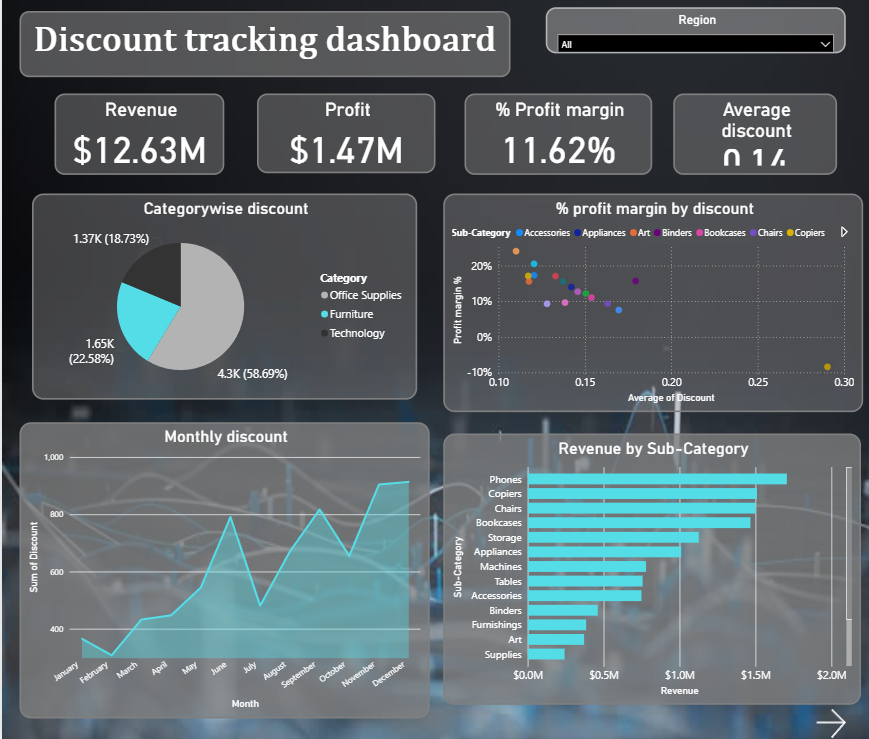

What the dashboard file says about the page in this screenshot:
{"tool":"powerbi","page":{"name":"Discount analysis","canvas":[1280,1100],"ordinal":0},"visuals":[{"type":"card","title":"Revenue ","fields":{"Values":["Orders.Revenue"]},"box":[77.4,143.8,250.7,119.8],"z":0},{"type":"card","title":"Profit ","fields":{"Values":["Sum(Orders.Profit)"]},"box":[376,143.8,263.6,118],"z":1000},{"type":"card","title":"% Profit margin ","fields":{"Values":["Orders.Profit margin %"]},"box":[682,143.8,276.5,119.8],"z":2000},{"type":"card","title":"Average discount","fields":{"Values":["Avg(Orders.Discount)"]},"box":[989.8,143.8,241.5,119.8],"z":3000},{"type":"barChart","fields":{"Y":["Orders.Revenue"],"Category":["Orders.Sub-Category"]},"box":[650.6,645.1,615.6,400],"z":4000},{"type":"scatterChart","title":"% profit margin by discount","fields":{"Y":["Orders.Profit margin %"],"Category":["Orders.Sub-Category"],"Series":["Orders.Sub-Category"],"X":["Avg(Orders.Discount)"]},"box":[650.6,291.2,619.3,322.6],"z":5000},{"type":"areaChart","title":"Monthly discount ","fields":{"Y":["Sum(Orders.Discount)"],"Category":["Orders.Order Date.Variation.Date Hierarchy.Month","Orders.Order Date.Variation.Date Hierarchy.Day"]},"box":[25.8,628.5,604.6,436.8],"z":6000},{"type":"pieChart","title":"Categorywise discount","fields":{"Y":["Sum(Orders.Discount)"],"Category":["Orders.Category"]},"box":[44.2,291.2,567.7,304.1],"z":7000},{"type":"slicer","title":"Region ","fields":{"Values":["Orders.Region","Orders.Country"]},"box":[801.8,16.6,442.4,68.2],"z":8000},{"type":"actionButton","box":[1194.4,1045.1,71.9,55.3],"z":9000},{"type":"textbox","box":[25.8,22.1,724.4,97.7],"z":10000}]}

Visuals, with their boxes in screenshot pixels (x1, y1, x2, y2), scaled from the page's 1280x1100 canvas onto the 869x739 screenshot:
"Revenue " card: box(53, 97, 223, 177)
"Profit " card: box(255, 97, 434, 176)
"% Profit margin " card: box(463, 97, 651, 177)
"Average discount" card: box(672, 97, 836, 177)
barChart - Orders.Revenue x Orders.Sub-Category: box(442, 433, 860, 702)
"% profit margin by discount" scatterChart: box(442, 196, 862, 412)
"Monthly discount " areaChart: box(18, 422, 428, 716)
"Categorywise discount" pieChart: box(30, 196, 415, 400)
"Region " slicer: box(544, 11, 845, 57)
actionButton: box(811, 702, 860, 738)
textbox: box(18, 15, 509, 80)
